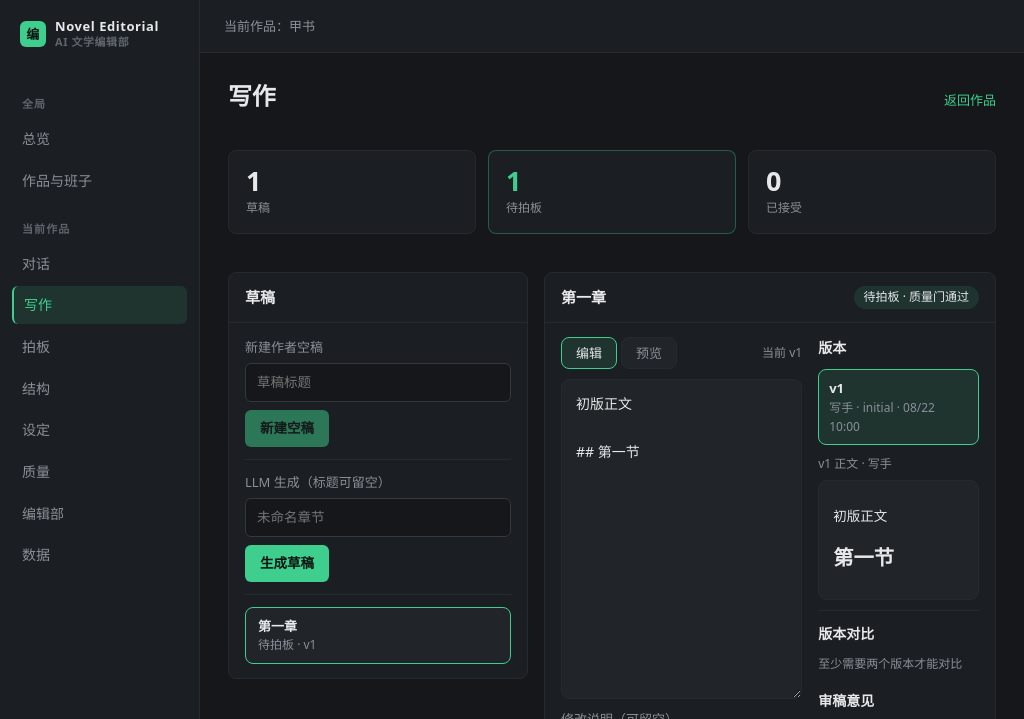
Test: writer page › saves content with the default reason and refreshes the detail
Expected: the heading "第一章" is shown, [561,286,606,309]
Replace the text in the text box with test id "editor-textarea" with "新正文：结尾反转" at (682, 540), box [561,380,802,700]
(page scrolled)
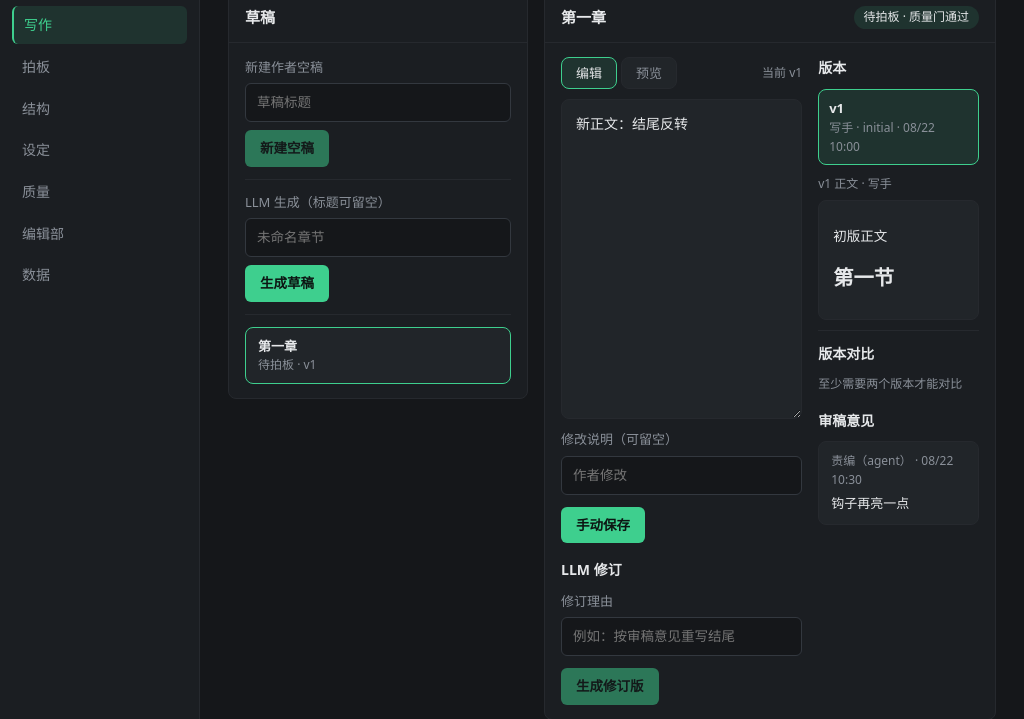
Click the button with test id "save-content-button".
click(603, 525)  # box [561,506,645,543]
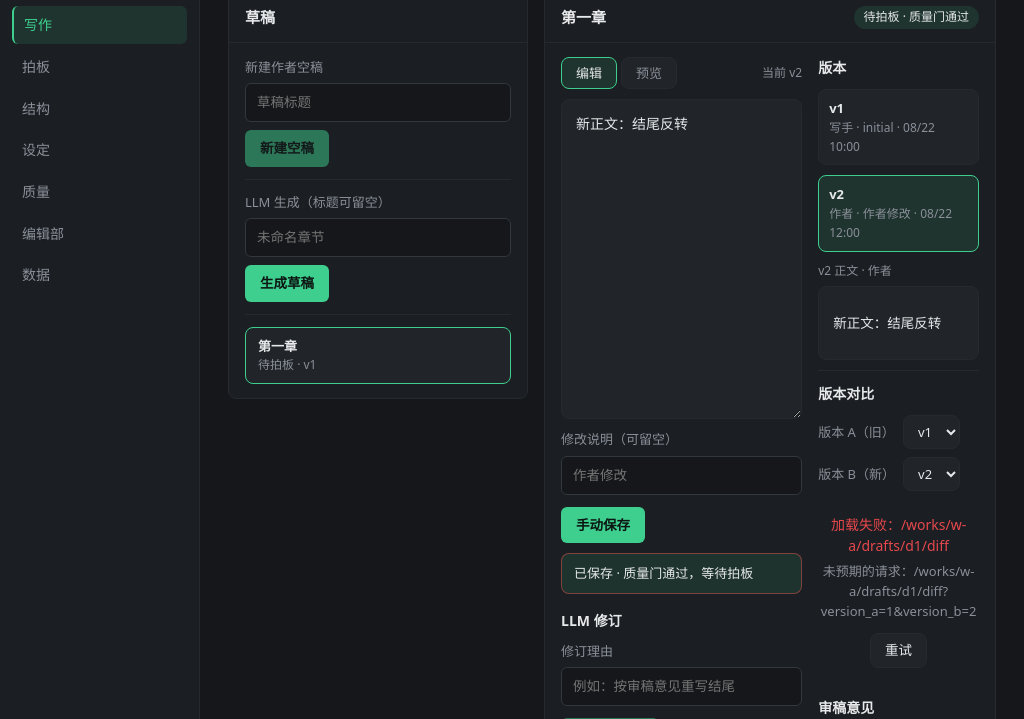
Expected: the message with test id "save-result" reads "已保存 · 质量门通过，等待拍板", [574,564,753,582]
Expected: the number of buttons with test id "version-item" is 2, [818,89,979,165]; [818,175,979,252]
Expected: the button with test id "version-item" shows "作者", [818,175,979,252]
